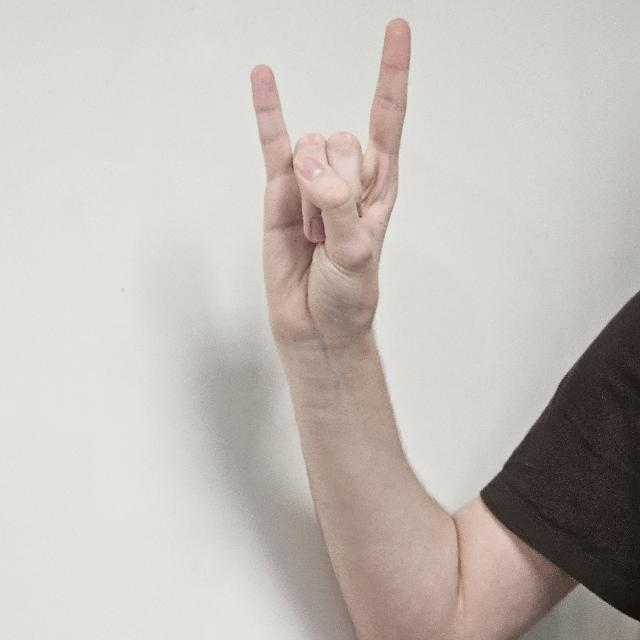L: (248, 16, 412, 357)
